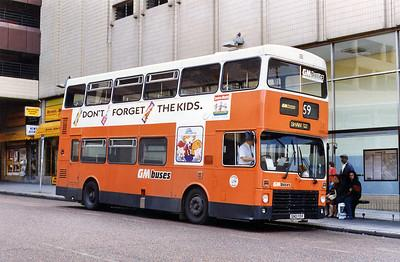bus: (56, 44, 344, 228)
